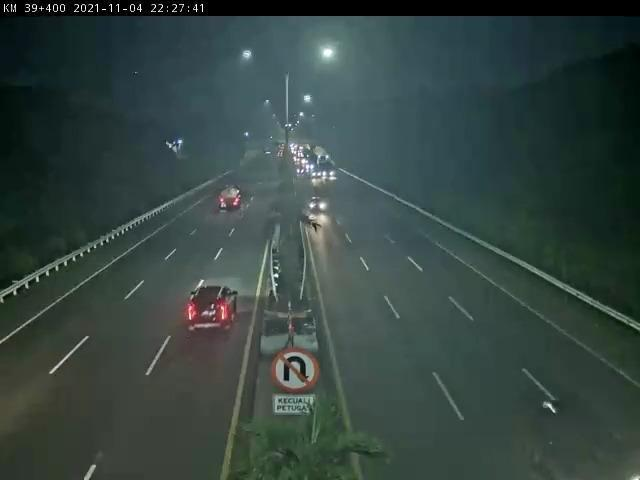car: (190, 284, 240, 335), (308, 195, 330, 216)
truck: (218, 183, 244, 211)
